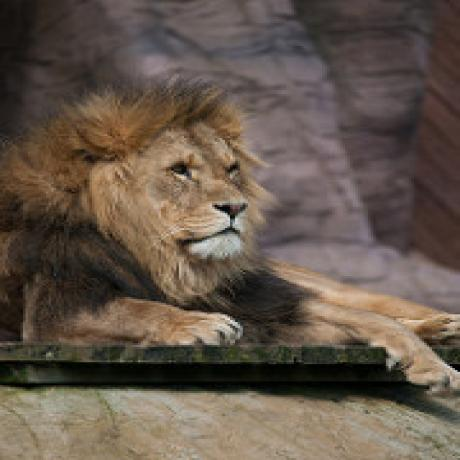Lion: (2, 71, 460, 397)
